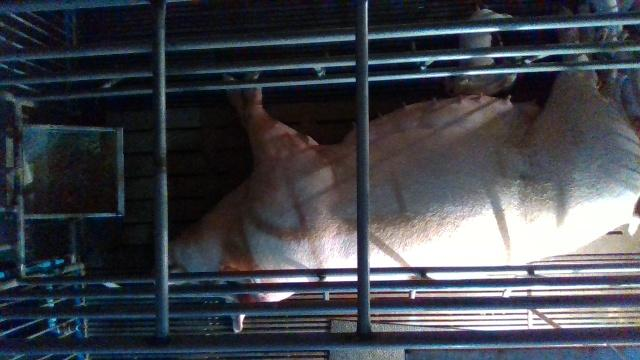piglet: (457, 7, 510, 68)
sow-sleep-lactate: (168, 50, 640, 333)
